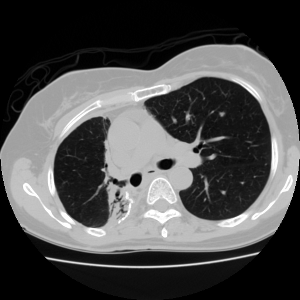nodule: (218, 110, 226, 118)
